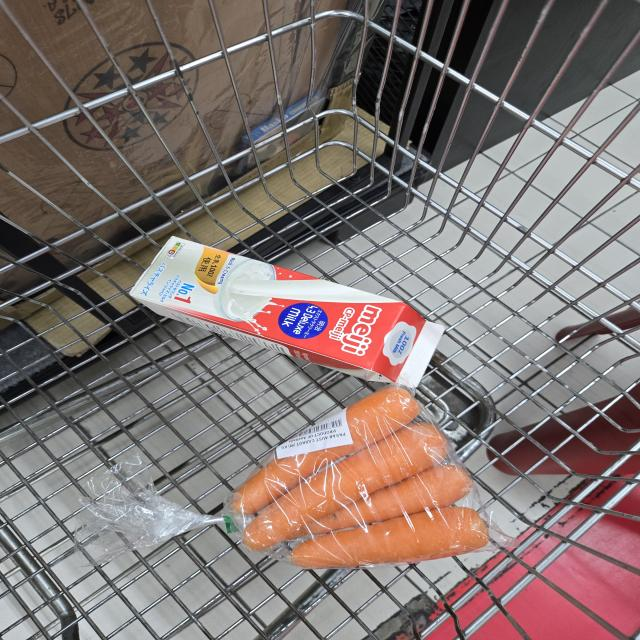carrot: (242, 421, 451, 551), (230, 385, 427, 517), (287, 462, 476, 540), (288, 505, 492, 569)
milk: (128, 233, 448, 388)
